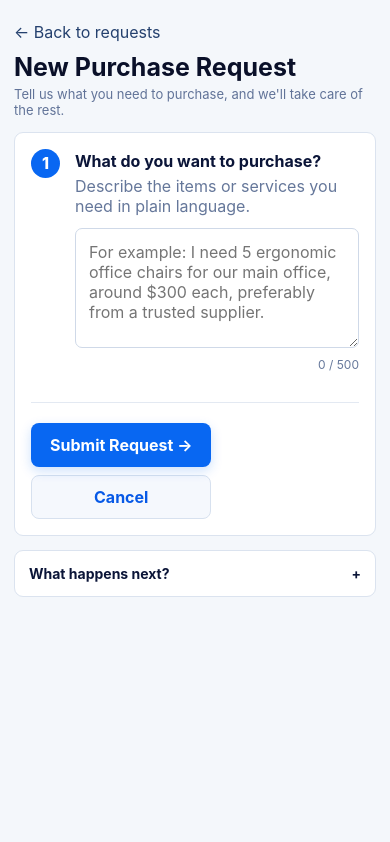
Scenario: NewPurchaseRequest › exposes an accessible collapsible next-steps control
Click the button "What happens next? +" at (99,573), box [29,564,361,582]
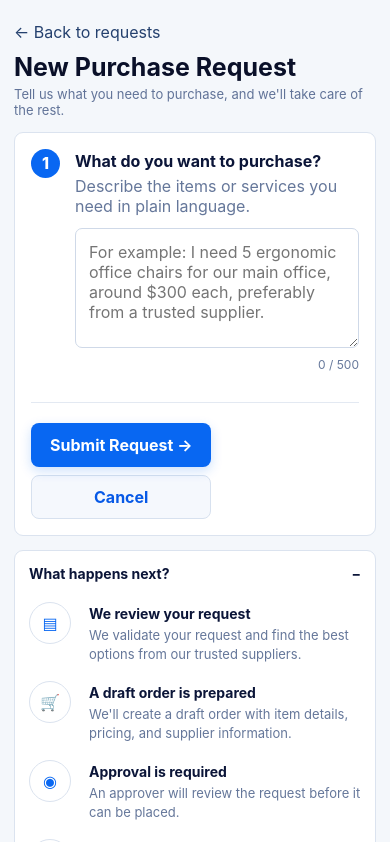
Result: the button "What happens next? −" is expanded at [29,564,361,582]
